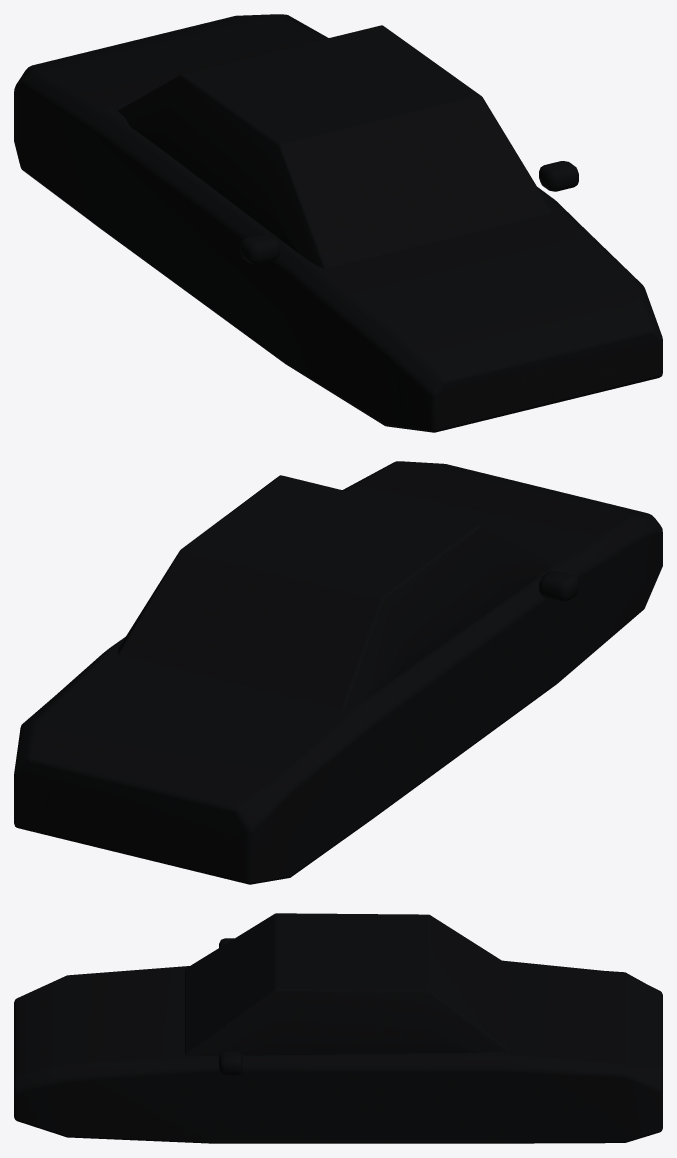
3 views of the same model, one above another, from view 1: azimuth 30°, elevation 25°; view 2: azimuth 150°, elevation 25°; view 3: azimuth 270°, elevation 25° (orthographic). The views are drawn at different scales.
Size of the model in its own units: 2.12 by 1.12 by 4.64.
Materials: 1 (1 with a texture image).
